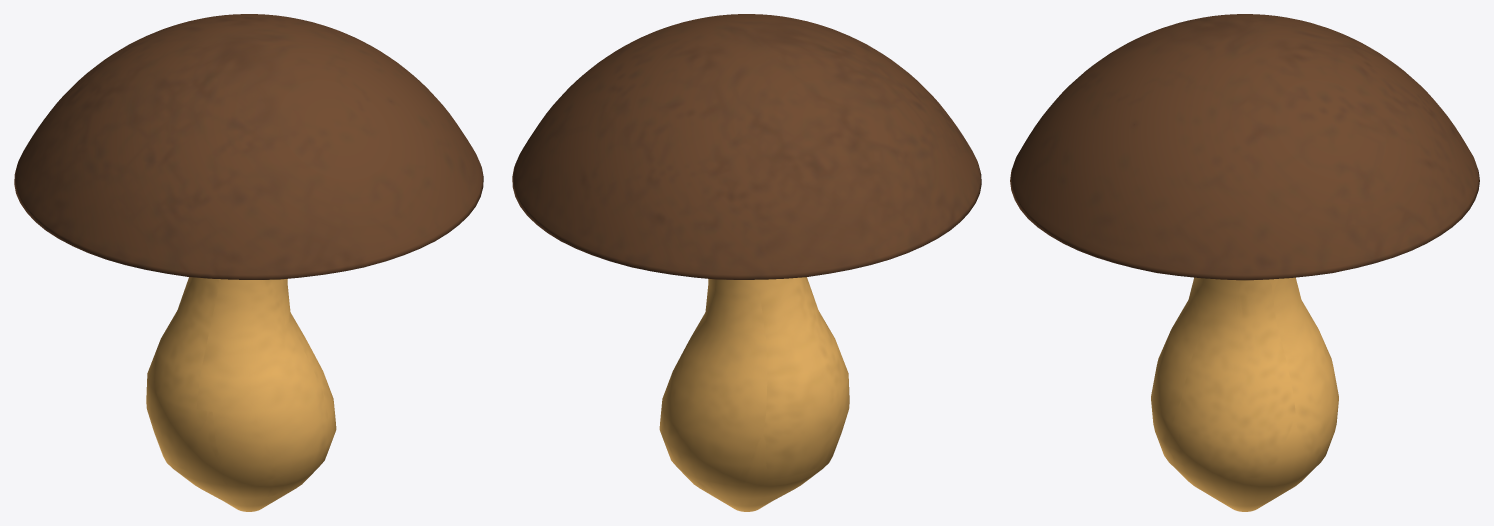
Rendered from Karljohan2.fbx.
3 renders of one model, left to right at view 1: azimuth 30°, elevation 25°; view 2: azimuth 150°, elevation 25°; view 3: azimuth 270°, elevation 25°, orthographic.
Visible parts, largest first — view 1: Sphere.001, Cylinder.001; view 2: Sphere.001, Cylinder.001; view 3: Sphere.001, Cylinder.001.
Part boxes in pixels (x1,y1,x2,y2): Sphere.001: (14, 14, 483, 279); Cylinder.001: (146, 277, 336, 511); Sphere.001: (512, 14, 981, 279); Cylinder.001: (659, 277, 849, 511); Sphere.001: (1010, 14, 1479, 280); Cylinder.001: (1151, 277, 1338, 511).
Bounding box in the file's own units: 4.06 × 4.06 × 4.47.
3 materials, 3 textured.
